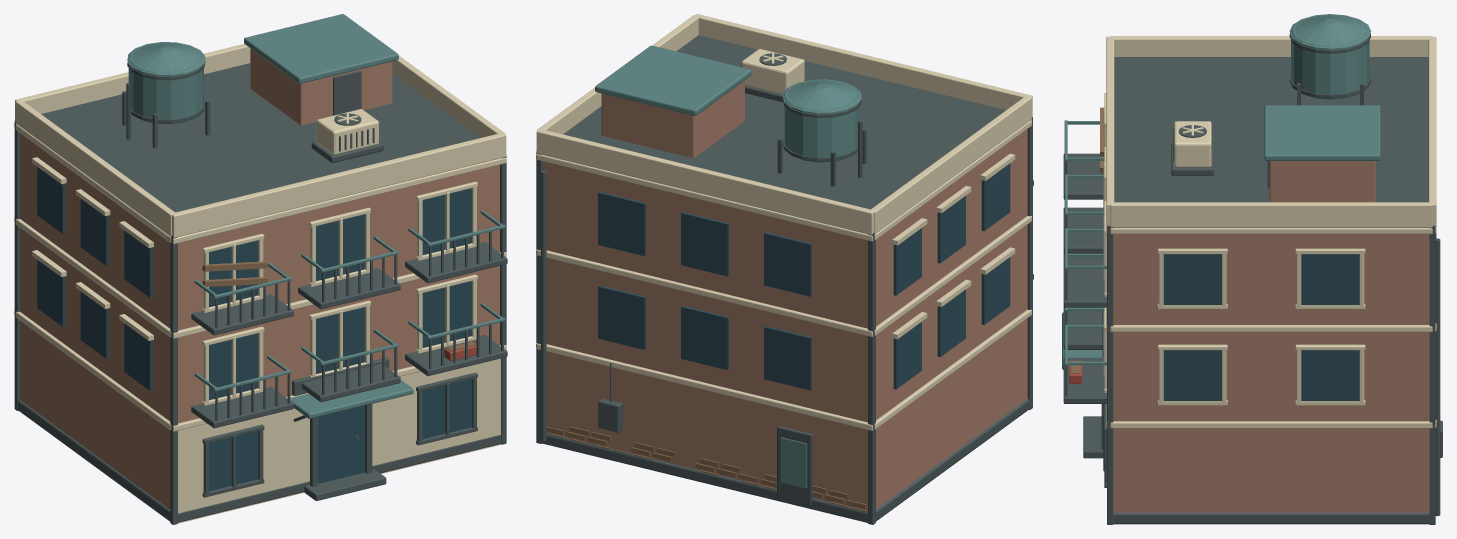
The model's file is ApartmentBlock.glb.
3 views of the same model, side by side, from view 1: azimuth 30°, elevation 25°; view 2: azimuth 150°, elevation 25°; view 3: azimuth 270°, elevation 25° (orthographic). The views are drawn at different scales.
Visible parts, largest first — view 1: Detail_Charcoal metal, MainShell, Detail_Ivory paint, Detail_Dark blue glass, Detail_Oxidized teal steel, Detail_Terracotta plaster, Detail_Weathered timber; view 2: MainShell, Detail_Charcoal metal, Detail_Ivory paint, Detail_Dark blue glass, Detail_Oxidized teal steel, Detail_Terracotta plaster, Detail_Weathered timber; view 3: MainShell, Detail_Charcoal metal, Detail_Ivory paint, Detail_Oxidized teal steel, Detail_Dark blue glass, Detail_Terracotta plaster.
Boxes of the visible parts, x1,y1,x2,y2 form: Detail_Charcoal metal: [14, 59, 507, 524]; MainShell: [20, 133, 499, 509]; Detail_Ivory paint: [14, 44, 506, 523]; Detail_Dark blue glass: [37, 167, 471, 491]; Detail_Oxidized teal steel: [127, 14, 505, 418]; Detail_Terracotta plaster: [250, 48, 392, 125]; Detail_Weathered timber: [202, 261, 476, 351]; MainShell: [542, 129, 1027, 510]; Detail_Charcoal metal: [536, 35, 1033, 524]; Detail_Ivory paint: [536, 14, 1032, 430]; Detail_Dark blue glass: [598, 163, 1010, 390]; Detail_Oxidized teal steel: [595, 45, 861, 488]; Detail_Terracotta plaster: [601, 80, 744, 157]; Detail_Weathered timber: [546, 426, 867, 512]; MainShell: [1113, 234, 1429, 512]; Detail_Charcoal metal: [1063, 33, 1442, 524]; Detail_Ivory paint: [1103, 36, 1436, 428]; Detail_Oxidized teal steel: [1062, 14, 1380, 369]; Detail_Dark blue glass: [1163, 234, 1436, 401]; Detail_Terracotta plaster: [1269, 161, 1375, 202].
Bounding box in the file's own units: 10.29 × 10.84 × 9.68.
